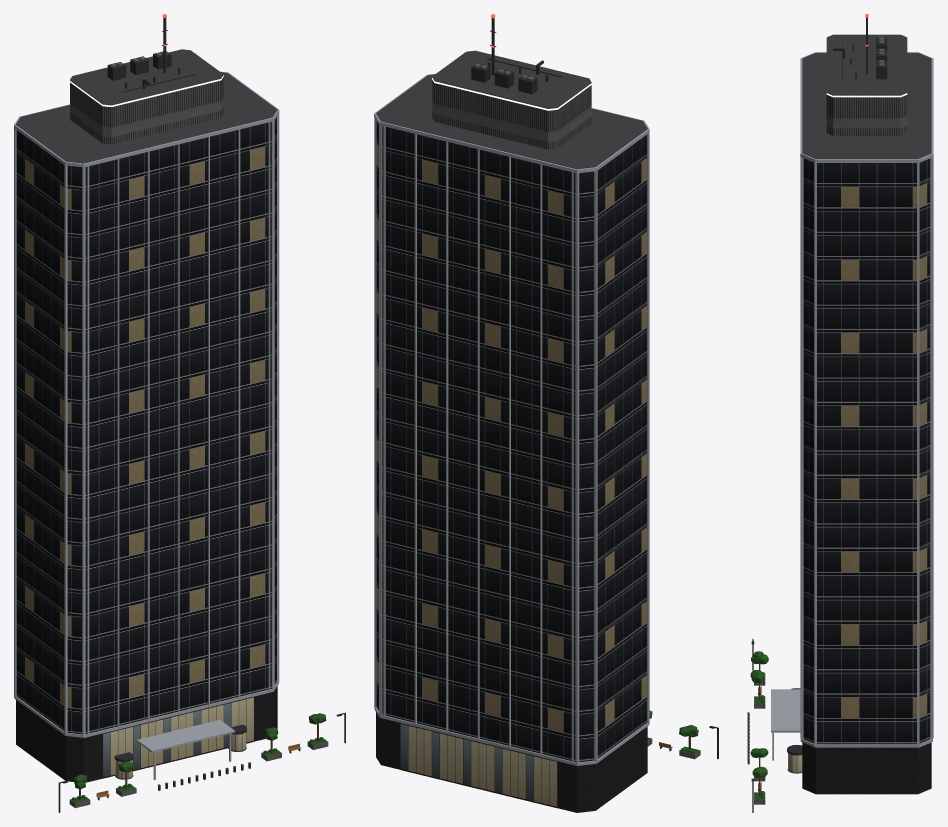
Rendered from OfficeDark.glb.
3 views of the same model, side by side, from view 1: azimuth 30°, elevation 25°; view 2: azimuth 150°, elevation 25°; view 3: azimuth 270°, elevation 25° (orthographic). The views are drawn at different scales.
Parts seen in each view (by area): view 1: Glass, Frame, Roof, Screen, Base, Lobby, Steel, Plant, Planter; view 2: Glass, Frame, Roof, Lobby, Screen, Base, Steel; view 3: Glass, Roof, Frame, Base, Screen, Steel, Plant, Planter.
Part boxes in pixels (box(x1,y1,x2,y2)): Glass: box(16, 117, 276, 734); Frame: box(14, 71, 279, 780); Roof: box(16, 49, 277, 163); Screen: box(70, 74, 223, 144); Base: box(16, 686, 277, 782); Lobby: box(103, 697, 253, 778); Steel: box(58, 17, 345, 812); Plant: box(71, 713, 326, 802); Planter: box(69, 51, 328, 808); Glass: box(376, 121, 646, 762); Frame: box(374, 73, 649, 765); Roof: box(376, 50, 647, 169); Lobby: box(400, 723, 557, 807); Screen: box(432, 77, 591, 149); Base: box(376, 712, 647, 812); Steel: box(471, 18, 718, 758); Glass: box(803, 158, 930, 744); Roof: box(802, 34, 931, 158); Frame: box(771, 52, 933, 760); Base: box(802, 742, 931, 794); Screen: box(826, 92, 907, 135); Steel: box(747, 17, 887, 812); Plant: box(750, 651, 768, 799); Planter: box(747, 37, 884, 804).
Bounding box in the file's own units: 152 × 363 × 83.4.
14 materials, 14 textured.
